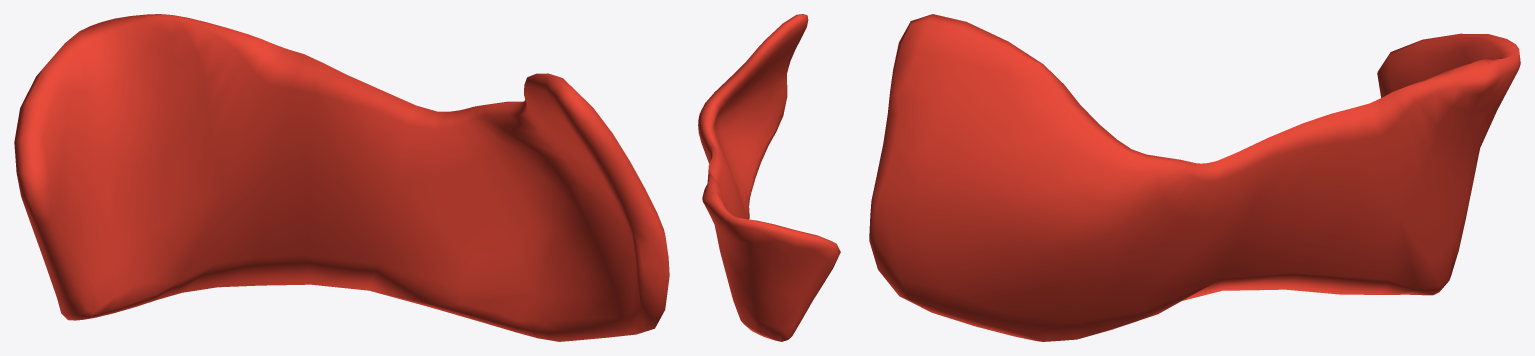
File: Adductor_hallucis_transverse_head_4th_metatarsal_right.glb
The picture shows the model from 3 angles, left to right: view 1: azimuth 30°, elevation 25°; view 2: azimuth 150°, elevation 25°; view 3: azimuth 270°, elevation 25°; orthographic projection. The views are drawn at different scales.
Parts seen in each view (by area): view 1: Transverse_head_of_adductor_hallucis_on_4th_metatarsal_head.; view 2: Transverse_head_of_adductor_hallucis_on_4th_metatarsal_head.; view 3: Transverse_head_of_adductor_hallucis_on_4th_metatarsal_head..
Boxes of the visible parts, box(x1,y1,x2,y2) form: Transverse_head_of_adductor_hallucis_on_4th_metatarsal_head.: box(14, 14, 669, 341); Transverse_head_of_adductor_hallucis_on_4th_metatarsal_head.: box(698, 14, 840, 341); Transverse_head_of_adductor_hallucis_on_4th_metatarsal_head.: box(869, 14, 1520, 341).
Bounding box in the file's own units: 0.00715 × 0.00617 × 0.01.
